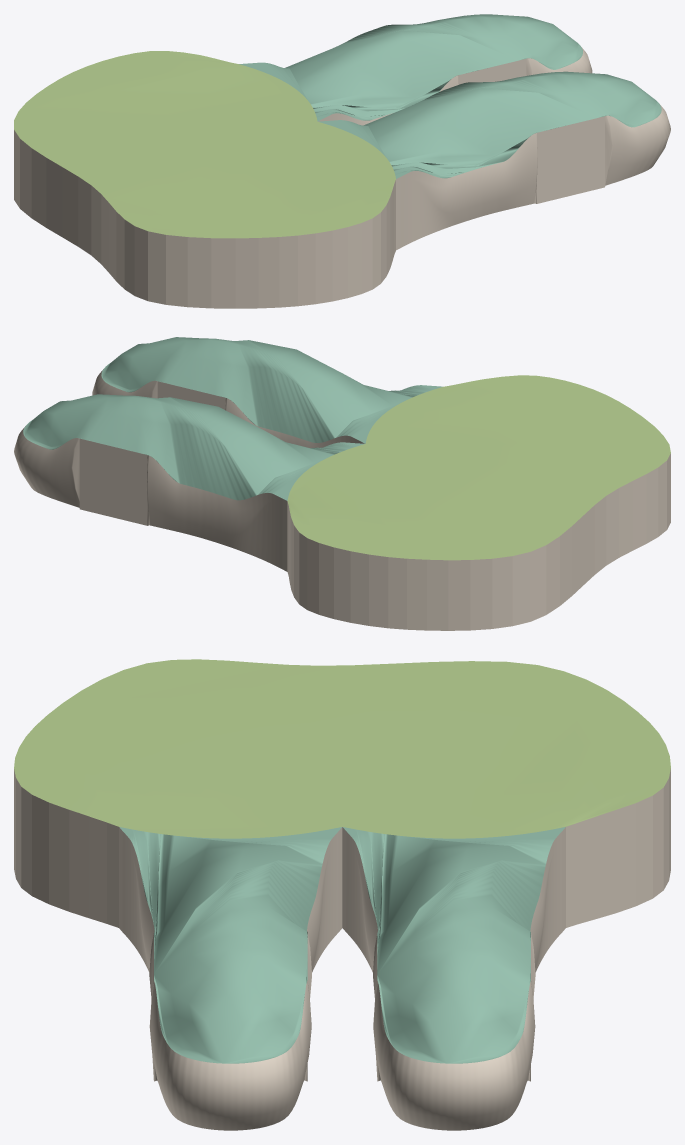
File: split-source.glb
The picture shows the model from 3 angles, top to bottom: view 1: azimuth 30°, elevation 25°; view 2: azimuth 150°, elevation 25°; view 3: azimuth 270°, elevation 25°; orthographic projection. The views are drawn at different scales.
Visible parts, largest first — view 1: baseline/top, baseline/rounded-coast, seaward-north/top, seaward-south/top, seaward-north/rounded-coast, seaward-north/bank-connection-positive, seaward-south/rounded-coast, seaward-south/bank-connection-positive; view 2: baseline/top, baseline/rounded-coast, seaward-north/top, seaward-south/top, seaward-south/rounded-coast, seaward-south/bank-connection-negative, seaward-north/rounded-coast, seaward-north/bank-connection-negative; view 3: baseline/top, seaward-north/top, seaward-south/top, baseline/rounded-coast, seaward-north/rounded-coast, seaward-south/rounded-coast.
Boxes of the visible parts, x1,y1,x2,y2 form: baseline/top: [14, 51, 395, 238]; baseline/rounded-coast: [14, 130, 395, 308]; seaward-north/top: [318, 71, 661, 178]; seaward-south/top: [239, 14, 582, 121]; seaward-north/rounded-coast: [396, 105, 670, 250]; seaward-north/bank-connection-positive: [537, 116, 604, 203]; seaward-south/rounded-coast: [318, 47, 592, 125]; seaward-south/bank-connection-positive: [458, 59, 526, 84]; baseline/top: [287, 375, 670, 560]; baseline/rounded-coast: [287, 453, 670, 630]; seaward-north/top: [101, 337, 442, 443]; seaward-south/top: [23, 394, 364, 500]; seaward-south/rounded-coast: [14, 426, 287, 571]; seaward-south/bank-connection-negative: [79, 438, 147, 525]; seaward-north/rounded-coast: [92, 369, 364, 448]; seaward-north/bank-connection-negative: [157, 381, 225, 409]; baseline/top: [14, 659, 670, 838]; seaward-north/top: [119, 827, 341, 1063]; seaward-south/top: [343, 827, 565, 1063]; baseline/rounded-coast: [14, 768, 670, 927]; seaward-north/rounded-coast: [119, 827, 342, 1130]; seaward-south/rounded-coast: [342, 827, 565, 1130].
Size of the model in its own units: 8.09 by 1.42 by 5.88.
